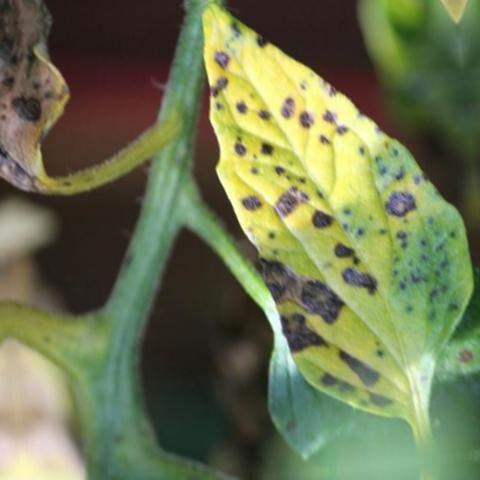Tomato Septoria leaf spot: (176, 0, 480, 438)
